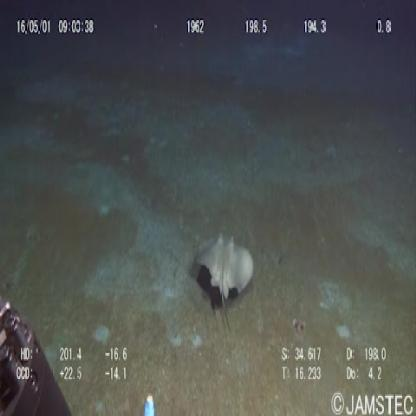Bio: (192, 226, 256, 340)
Rov: (1, 298, 74, 414)
